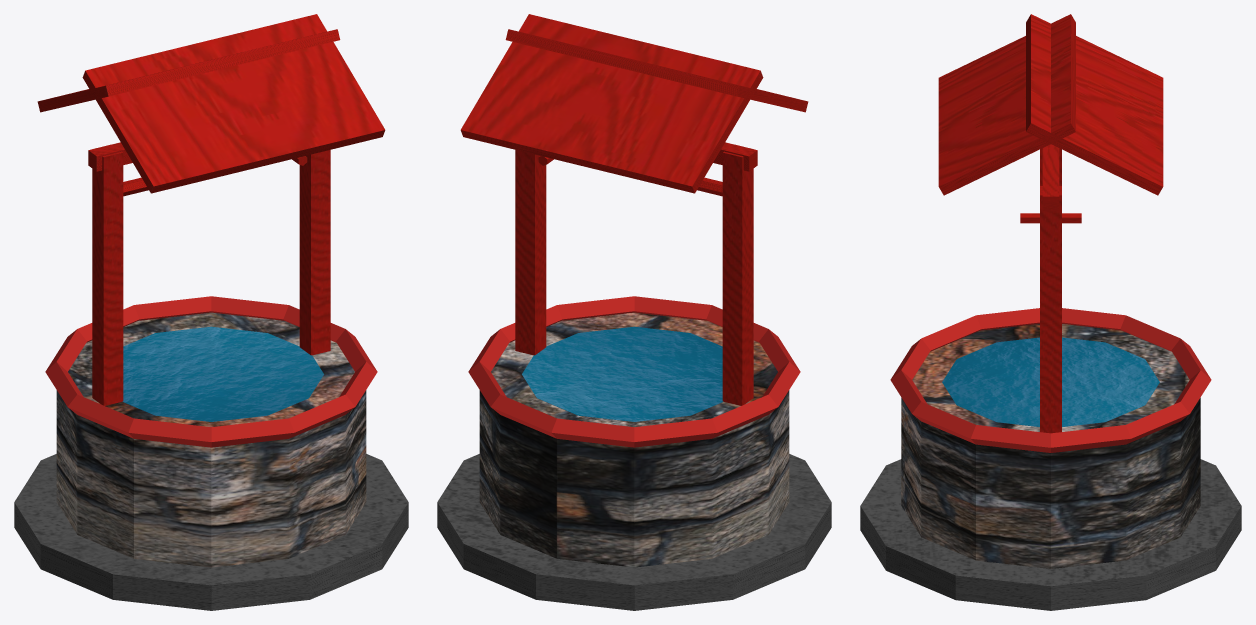
Rendered from Pozo.fbx.
3 views of the same model, side by side, from view 1: azimuth 30°, elevation 25°; view 2: azimuth 150°, elevation 25°; view 3: azimuth 270°, elevation 25° (orthographic). The views are drawn at different scales.
Parts seen in each view (by area): view 1: Techo_Derecho, Pared_Exterior, Pozo_Agua_LowPoly, Hueco_Interior; view 2: Techo_Derecho, Pared_Exterior, Pozo_Agua_LowPoly, Hueco_Interior; view 3: Techo_Derecho, Pared_Exterior, Pozo_Agua_LowPoly, Hueco_Interior.
Part boxes in pixels (left/top/right/bottom): Techo_Derecho: left=37, top=14, right=385, bottom=447; Pared_Exterior: left=56, top=312, right=366, bottom=567; Pozo_Agua_LowPoly: left=14, top=454, right=408, bottom=610; Hueco_Interior: left=122, top=326, right=323, bottom=421; Techo_Derecho: left=460, top=14, right=808, bottom=447; Pared_Exterior: left=479, top=312, right=789, bottom=567; Pozo_Agua_LowPoly: left=437, top=454, right=831, bottom=610; Hueco_Interior: left=522, top=326, right=723, bottom=421; Techo_Derecho: left=890, top=14, right=1211, bottom=452; Pared_Exterior: left=901, top=324, right=1200, bottom=568; Pozo_Agua_LowPoly: left=860, top=459, right=1241, bottom=610; Hueco_Interior: left=942, top=337, right=1159, bottom=426.
Size of the model in its own units: 280 by 374 by 280.
Materials: 4 (4 with a texture image).
